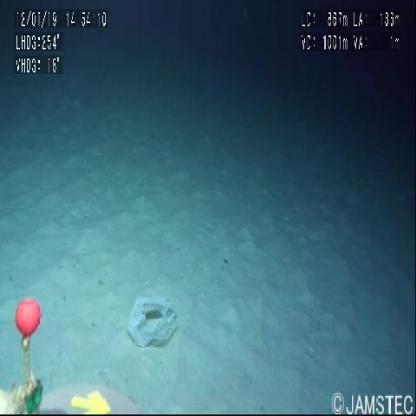Rác: (128, 298, 176, 352)
